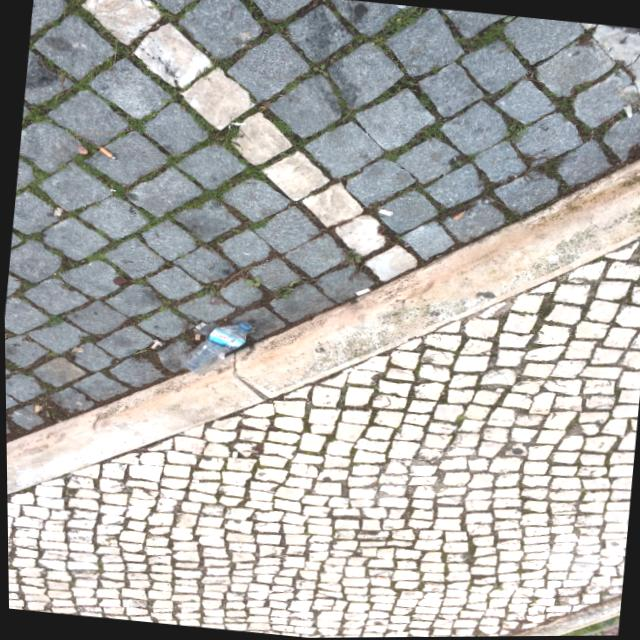Plastic: (176, 313, 257, 379)
